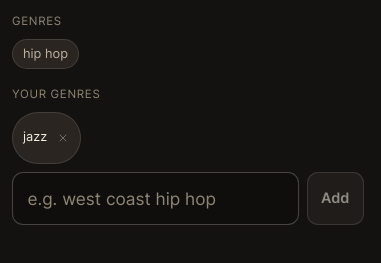
Scenario: PersonalGenresEditor › surfaces a save failure and rolls back the optimistic change
Click the button named "Remove jazz". click: click(63, 138)
box: [54, 117, 72, 159]
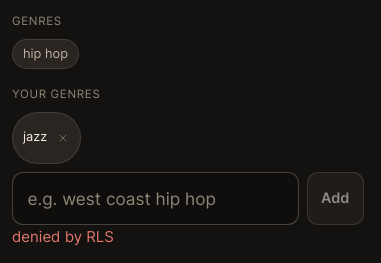
Expected: the text "jazz" is shown, [23, 127, 47, 148]
Result: the text "denied by RLS" is shown at [12, 227, 114, 246]
